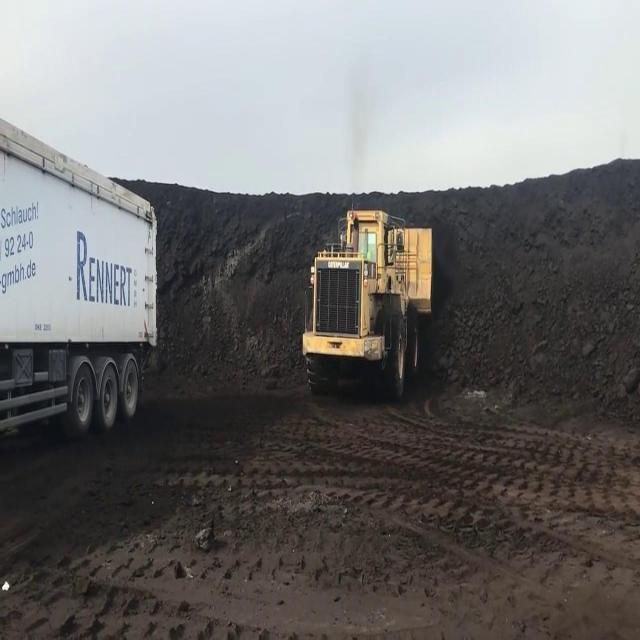Dump Truck: (0, 123, 159, 438)
Loader: (302, 204, 434, 404)
